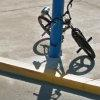Bicycle: (30, 3, 100, 61)
